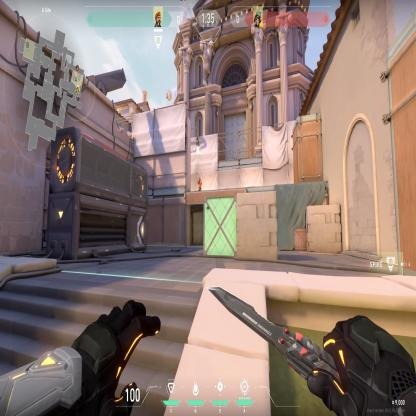enemy: (197, 176, 202, 192)
